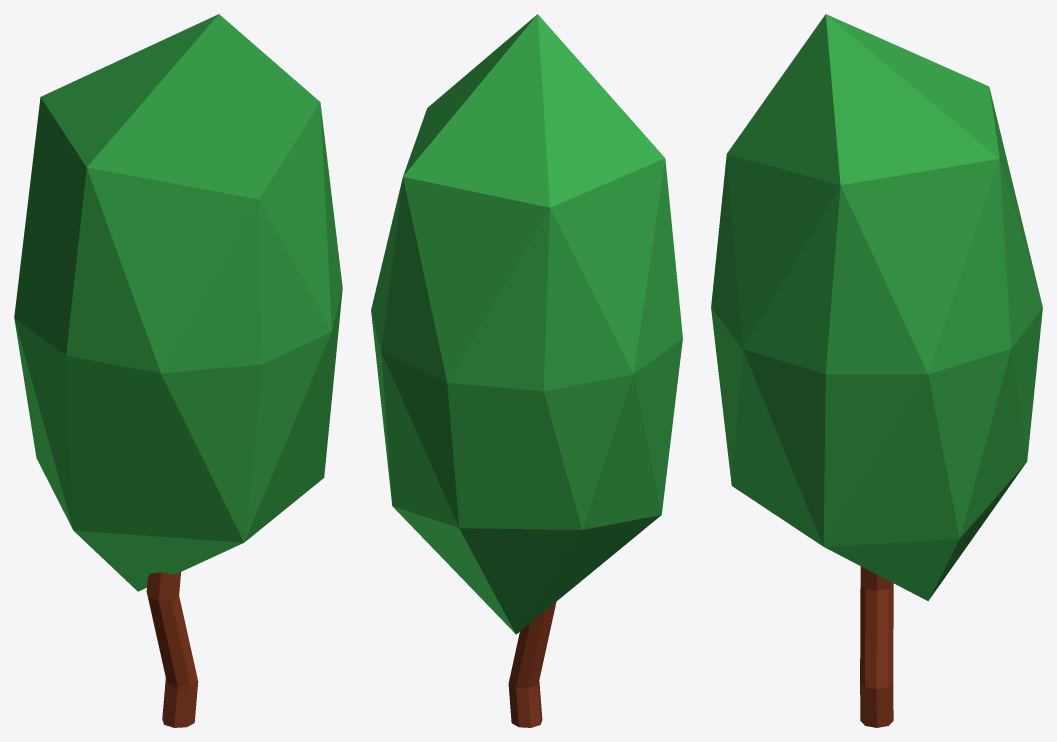
File: tree.012.fbx
The picture shows the model from 3 angles, left to right: view 1: azimuth 30°, elevation 25°; view 2: azimuth 150°, elevation 25°; view 3: azimuth 270°, elevation 25°; orthographic projection. The views are drawn at different scales.
Visible parts, largest first — view 1: Tree.012; view 2: Tree.012; view 3: Tree.012.
Part boxes in pixels (x1,y1,x2,y2): Tree.012: (14,14,342,727); Tree.012: (371,14,682,727); Tree.012: (711,14,1042,727).
Bounding box in the file's own units: 380 × 949 × 400.
